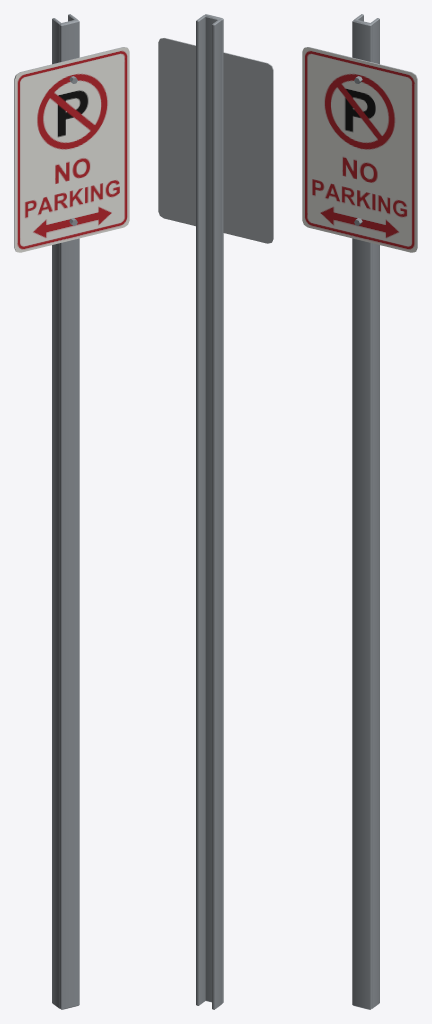
Rendered from NoParkingSign.fbx.
The picture shows the model from 3 angles, left to right: view 1: azimuth 30°, elevation 25°; view 2: azimuth 150°, elevation 25°; view 3: azimuth 330°, elevation 25°; orthographic projection.
Parts seen in each view (by area): view 1: NoParkingSign_Mesh; view 2: NoParkingSign_Mesh; view 3: NoParkingSign_Mesh.
Part boxes in pixels (x1,y1,x2,y2): NoParkingSign_Mesh: (14,14,129,1009); NoParkingSign_Mesh: (158,14,273,1009); NoParkingSign_Mesh: (302,14,417,1009).
Size of the model in its own units: 0.305 by 2.5 by 0.063.
